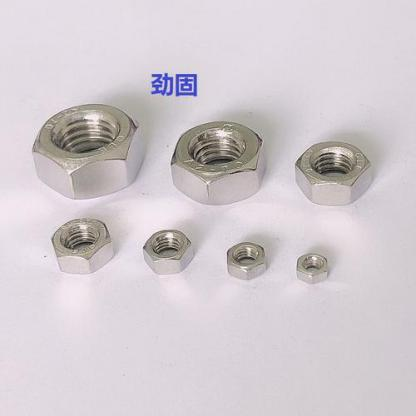FOD: (32, 100, 145, 200), (169, 119, 266, 206), (293, 139, 373, 207), (48, 213, 116, 276), (140, 226, 195, 277), (222, 240, 268, 282), (294, 253, 332, 285)
